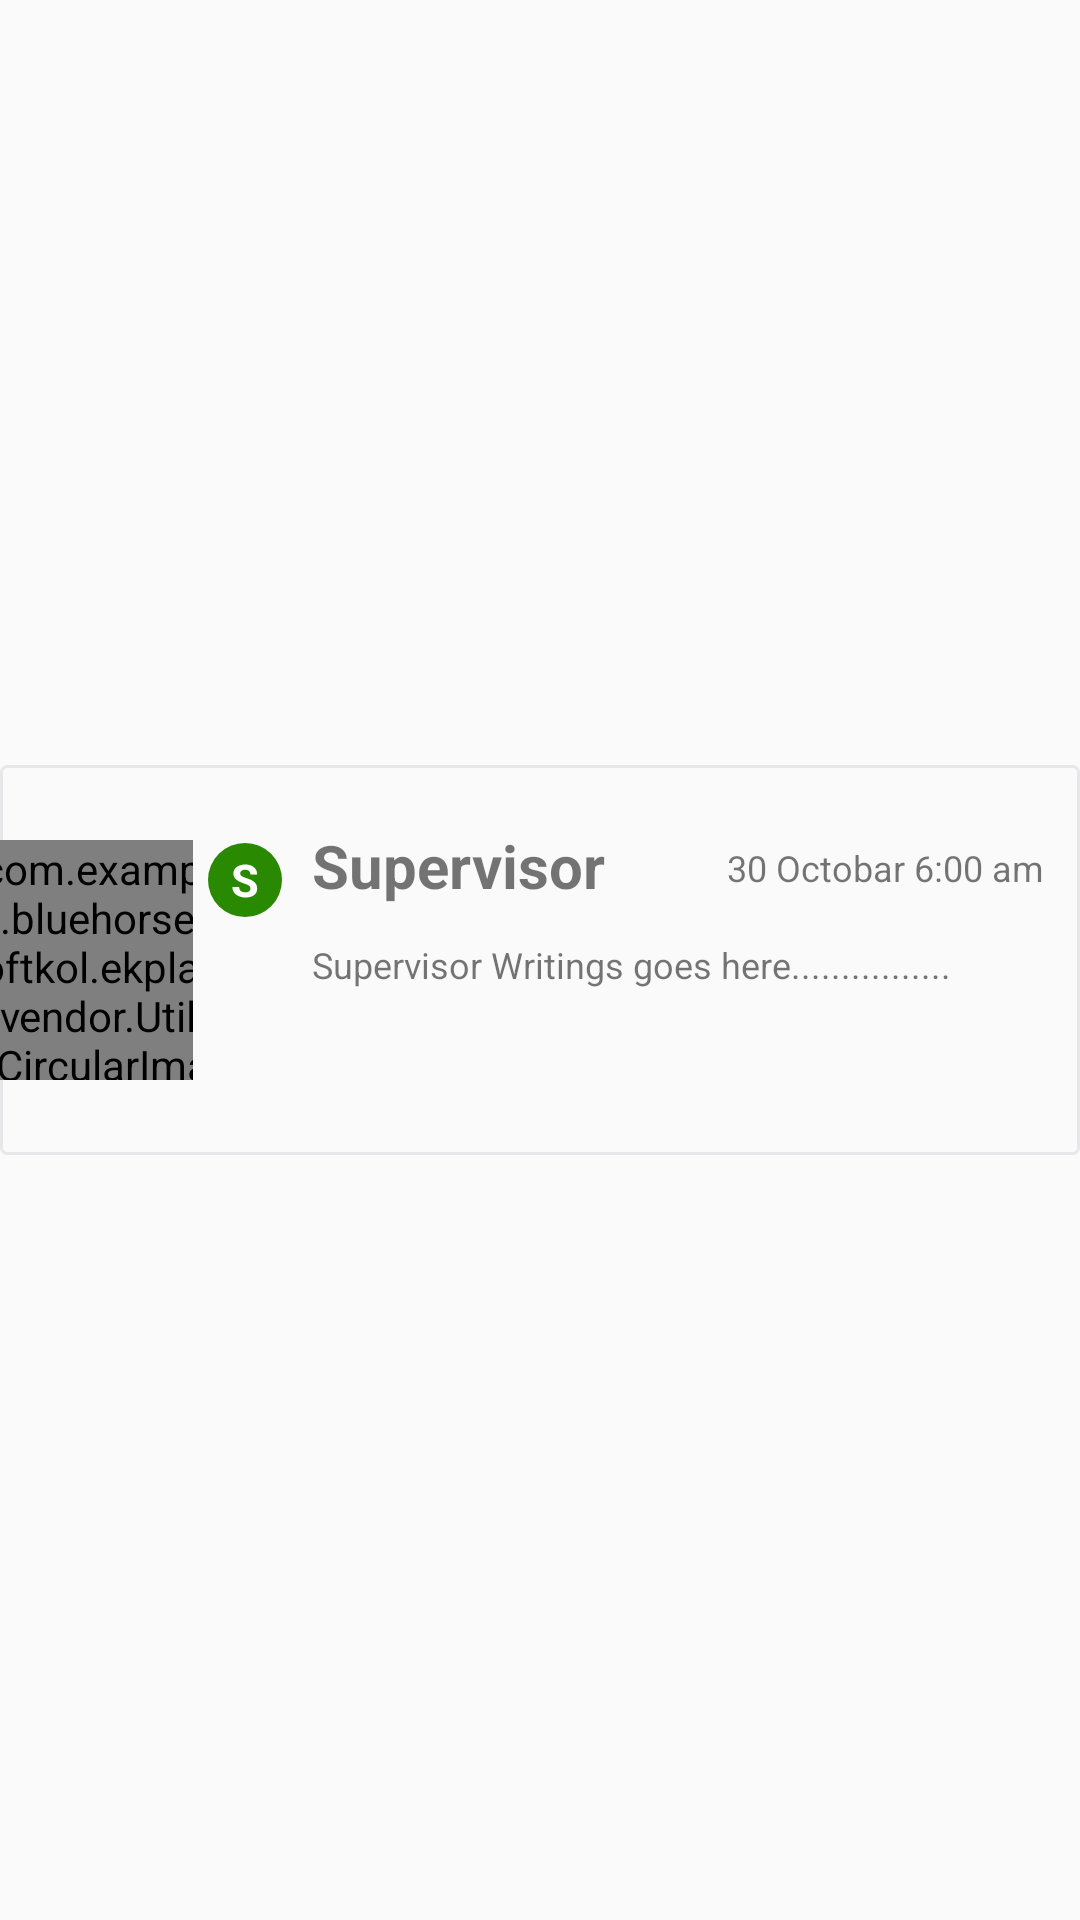

Icons on this 1080px x 1920px Android screen, each with the point to tap as (x,y):
shape round: (245,880)
